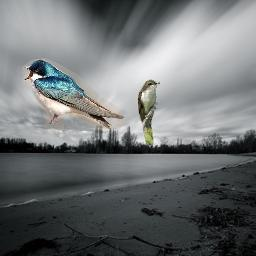Cuckoo: (138, 78, 160, 145)
Swallow: (22, 58, 125, 130)
